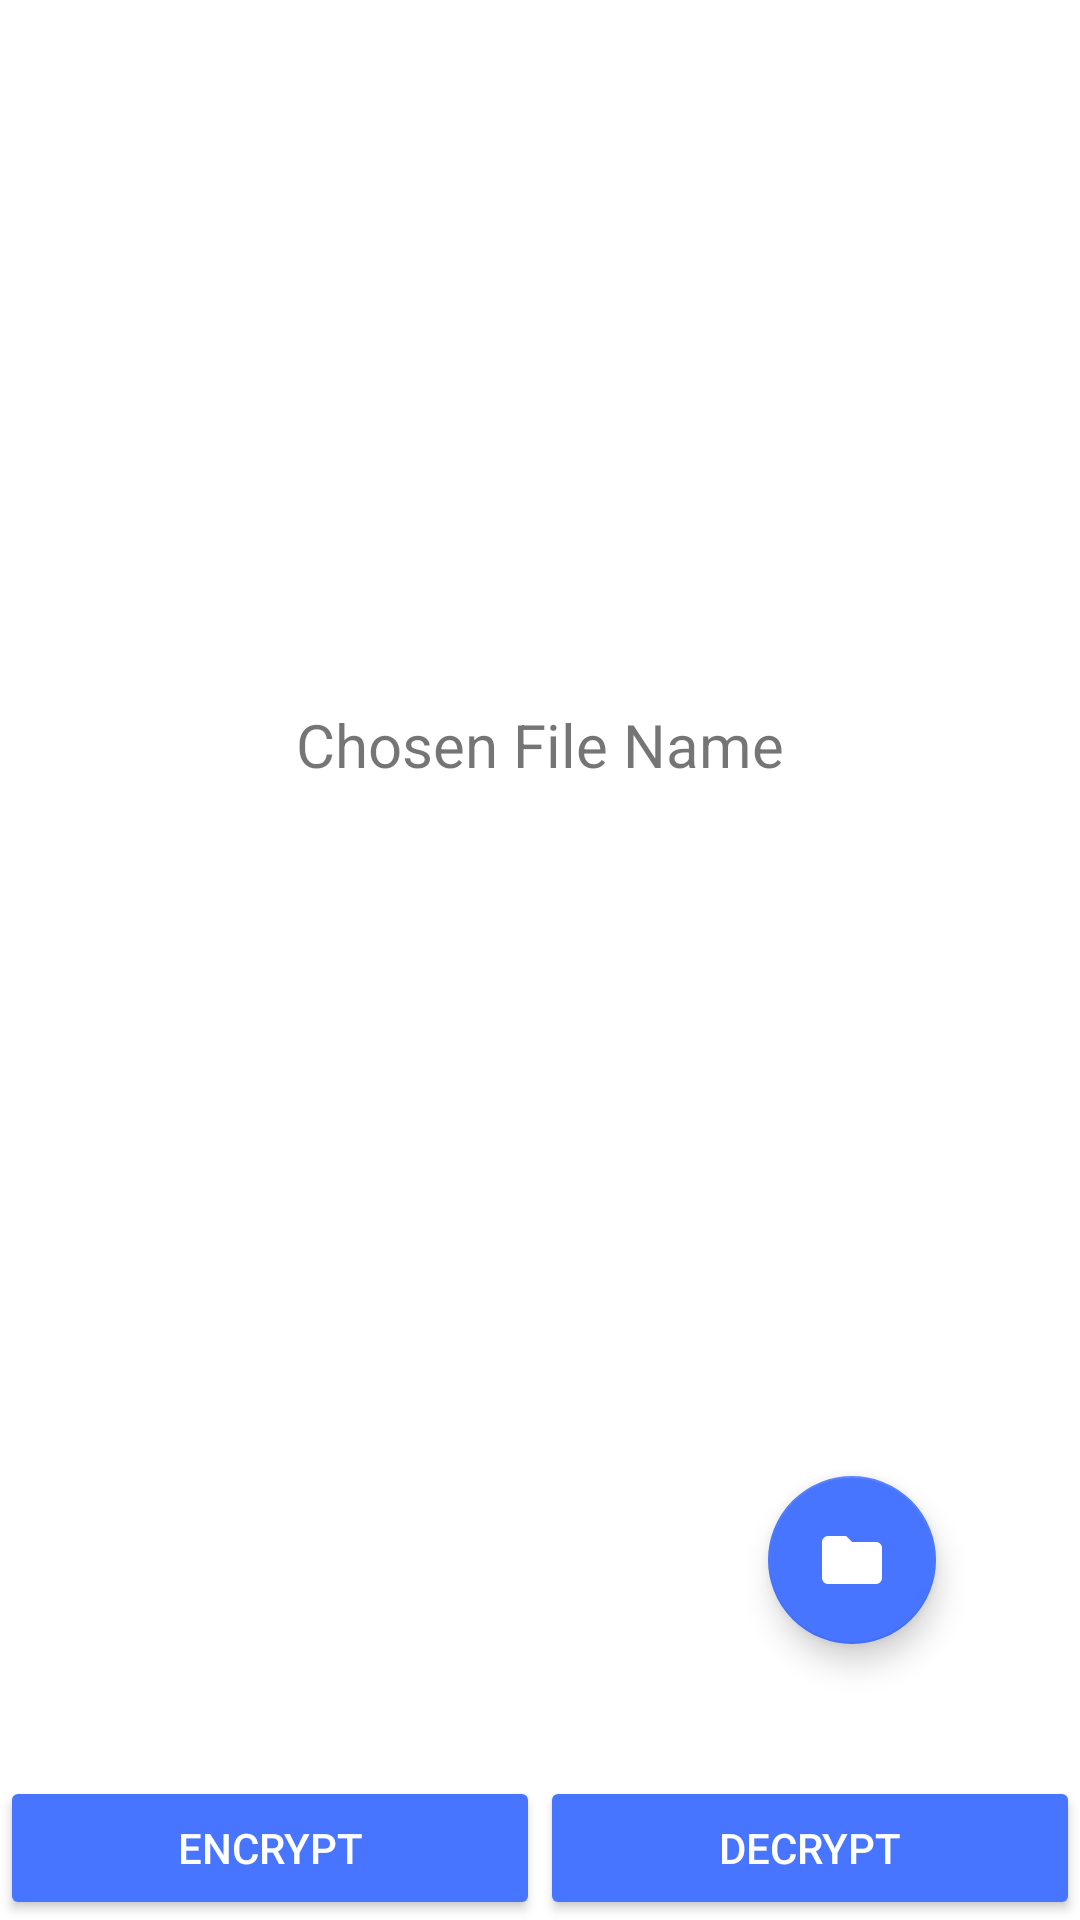

Icon bounding boxes for this 1080 × 1920 phone screenshot, format bbox(x1, y1, x2, y2):
folder: bbox(768, 1476, 936, 1644)
